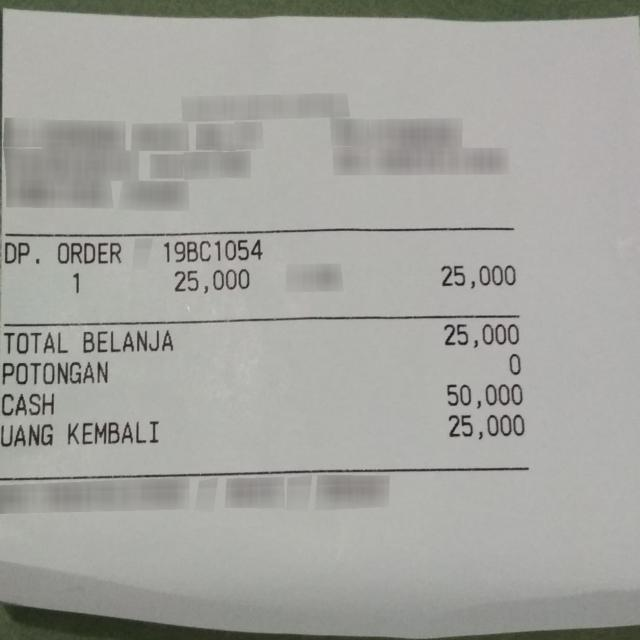text: (0, 361, 106, 384), (67, 420, 158, 444), (163, 239, 262, 261), (447, 412, 524, 440), (82, 330, 173, 353), (440, 262, 515, 289), (447, 382, 522, 408), (444, 322, 518, 348), (174, 268, 248, 292), (2, 331, 66, 353), (0, 390, 54, 416), (57, 241, 119, 263), (0, 423, 52, 445), (2, 241, 40, 266), (508, 351, 522, 377), (72, 273, 77, 292)
